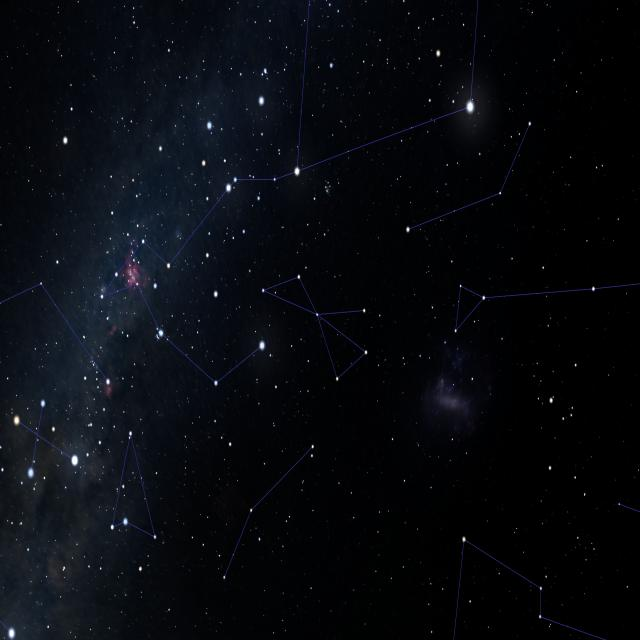Centaurus: (259, 272, 368, 382)
